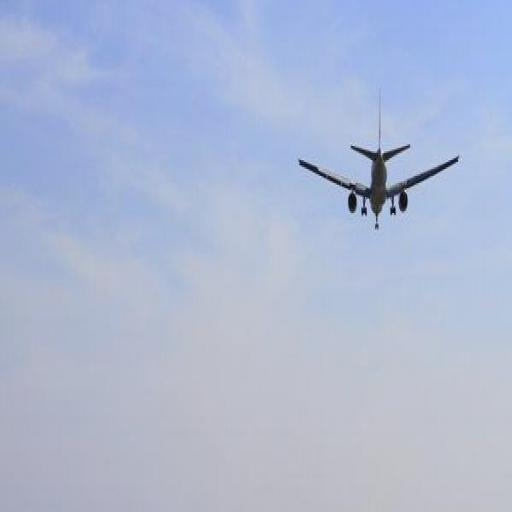aircraft: (294, 82, 464, 244)
